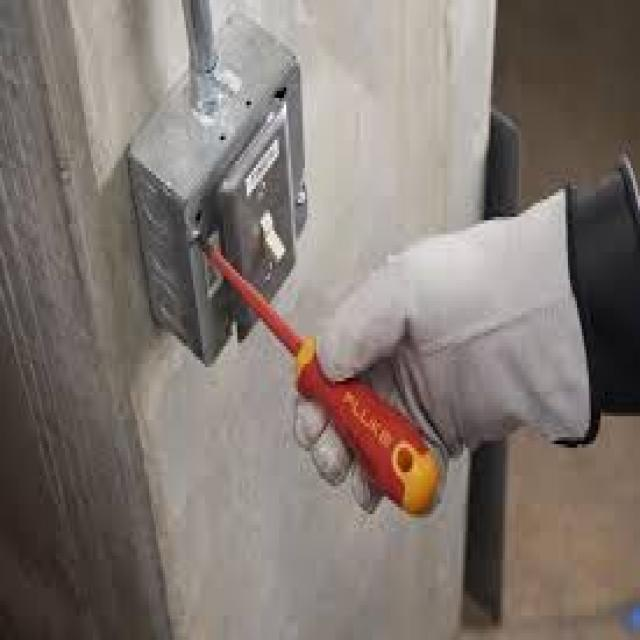screwdriver: (200, 236, 445, 523)
